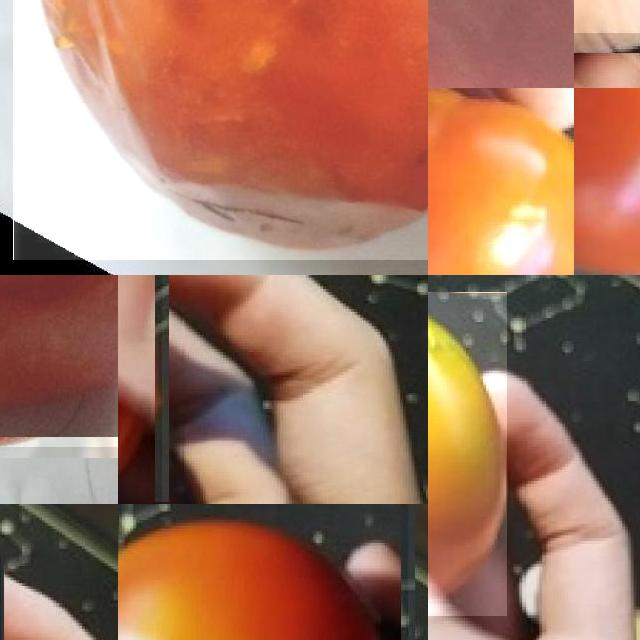1: (428, 292, 507, 616)
Fresh Tomato: (118, 504, 408, 640), (428, 88, 574, 275), (574, 88, 640, 275)
Rotten Tomato: (13, 0, 428, 260), (0, 275, 118, 447), (428, 0, 574, 88)
